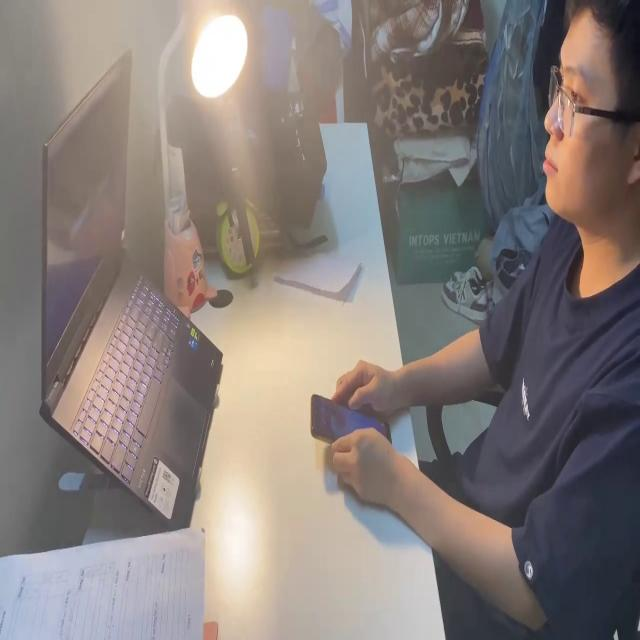book: (0, 526, 209, 640), (278, 250, 364, 304)
laptop: (36, 47, 224, 533)
phone: (310, 388, 392, 455)
student: (322, 0, 640, 640)
